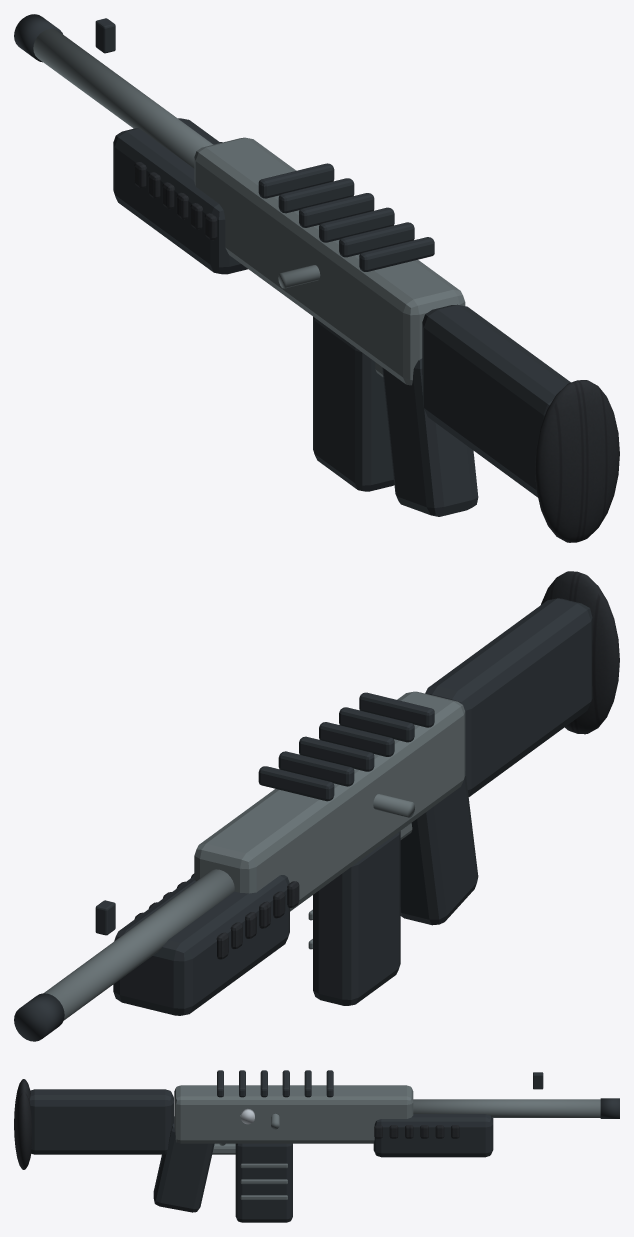
Rendered from mc_shotgun.glb.
3 renders of one model, top to bottom at view 1: azimuth 30°, elevation 25°; view 2: azimuth 150°, elevation 25°; view 3: azimuth 270°, elevation 25°, orthographic. The views are drawn at different scales.
Parts seen in each view (by area): view 1: mc_shotgun__Geometry; view 2: mc_shotgun__Geometry; view 3: mc_shotgun__Geometry.
Boxes of the visible parts, <box> form: mc_shotgun__Geometry: <box>14,14,619,542</box>; mc_shotgun__Geometry: <box>14,571,619,1041</box>; mc_shotgun__Geometry: <box>14,1070,619,1222</box>.
Bounding box in the file's own units: 0.143 × 0.294 × 1.11.
4 materials, 1 textured.
